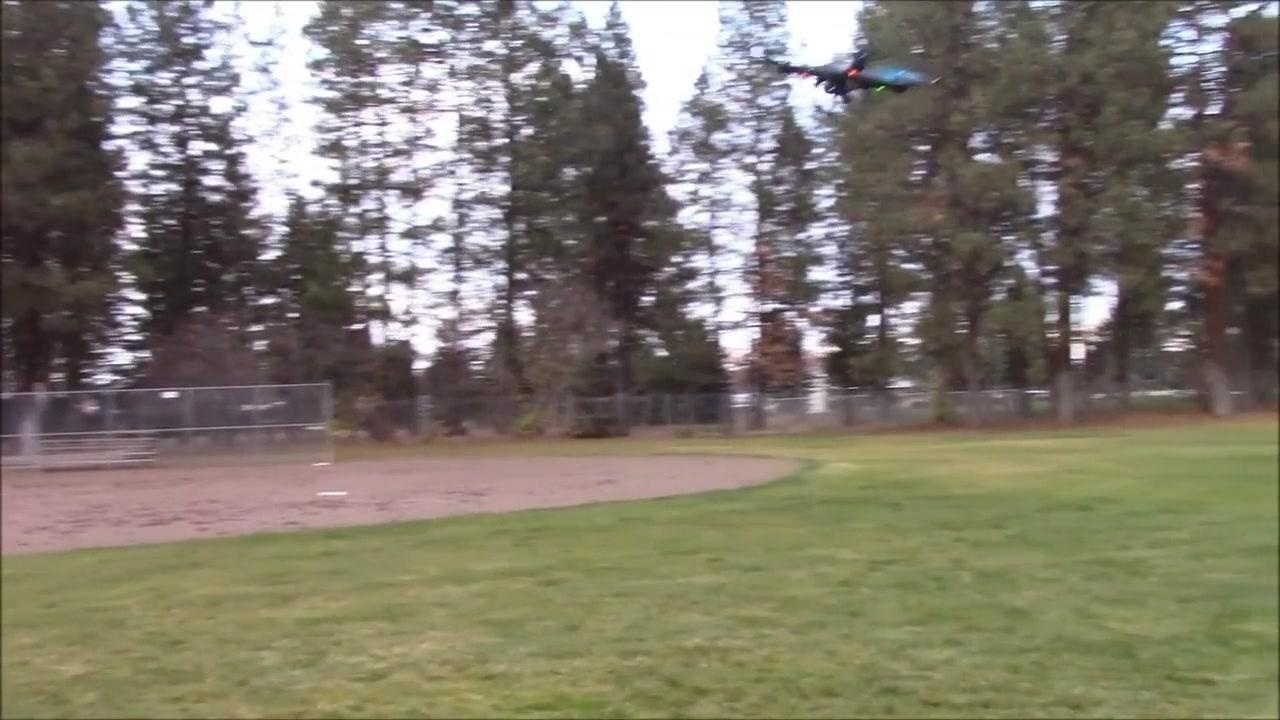UAV: (777, 52, 944, 105)
